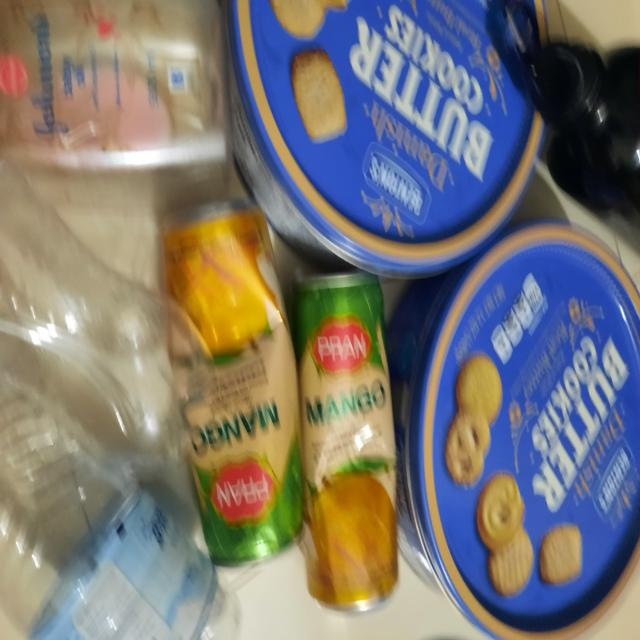Plastics: (0, 0, 204, 640)
can: (188, 0, 640, 640)
